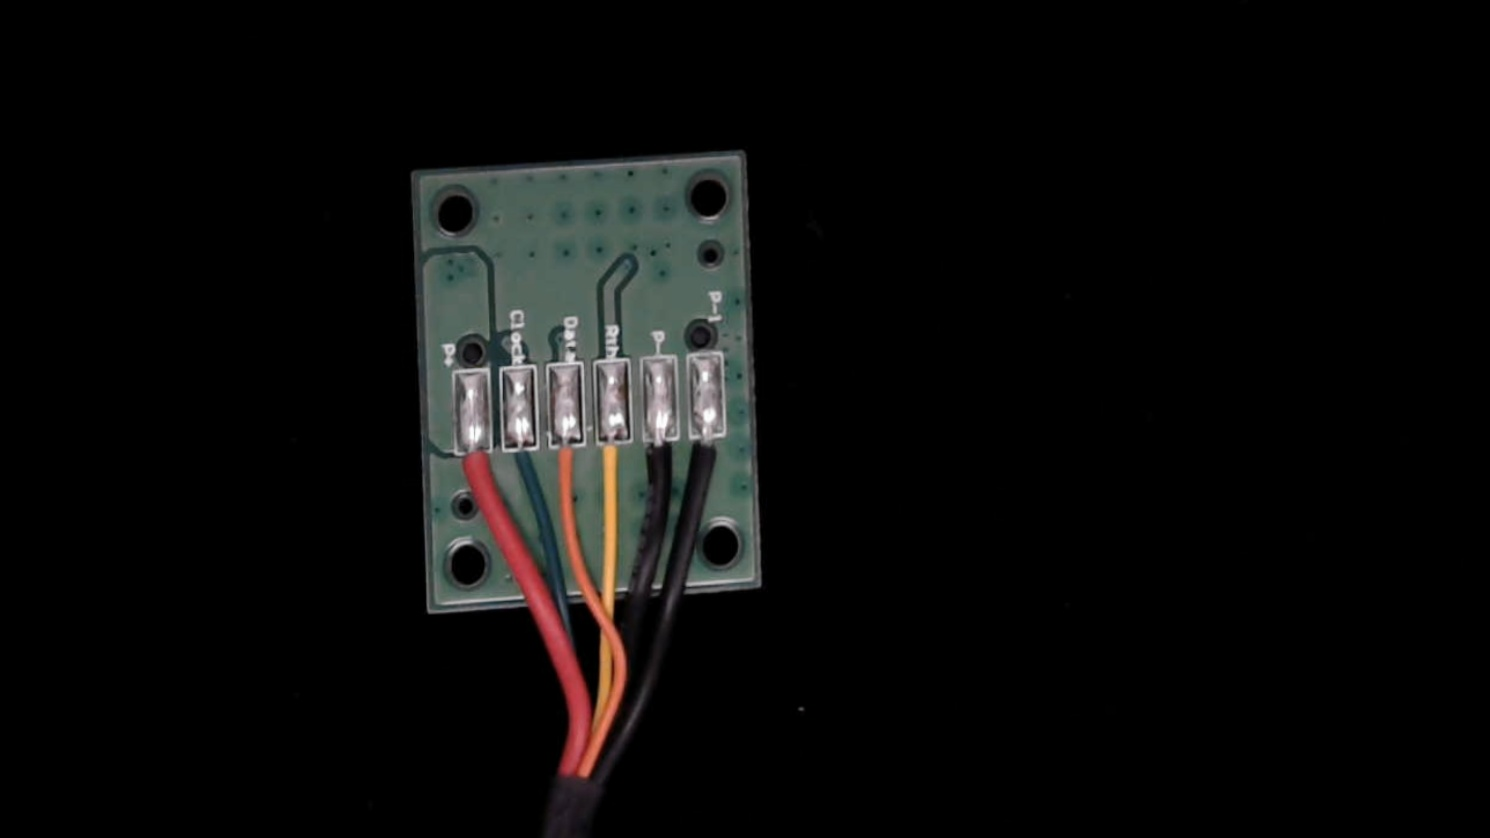Black: (644, 415, 677, 502)
Black1: (690, 412, 727, 493)
Green: (500, 423, 536, 510)
Orange: (547, 420, 581, 505)
Red: (454, 427, 496, 521)
Yellow: (595, 418, 632, 503)
